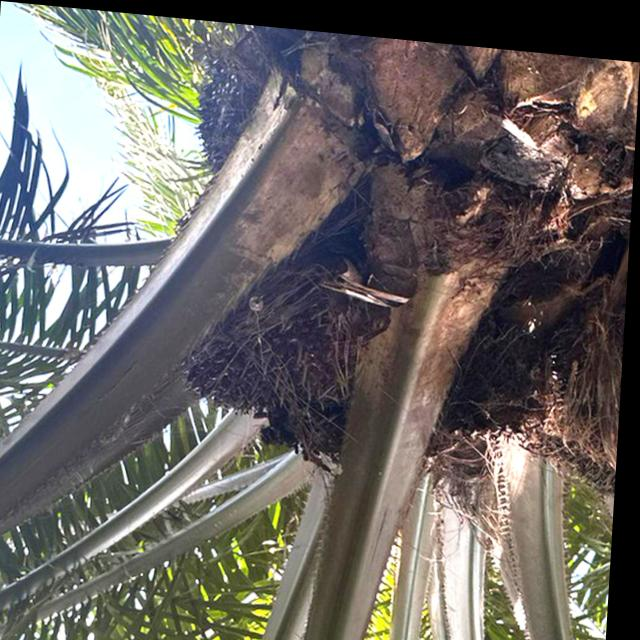ripe: (190, 245, 374, 431)
